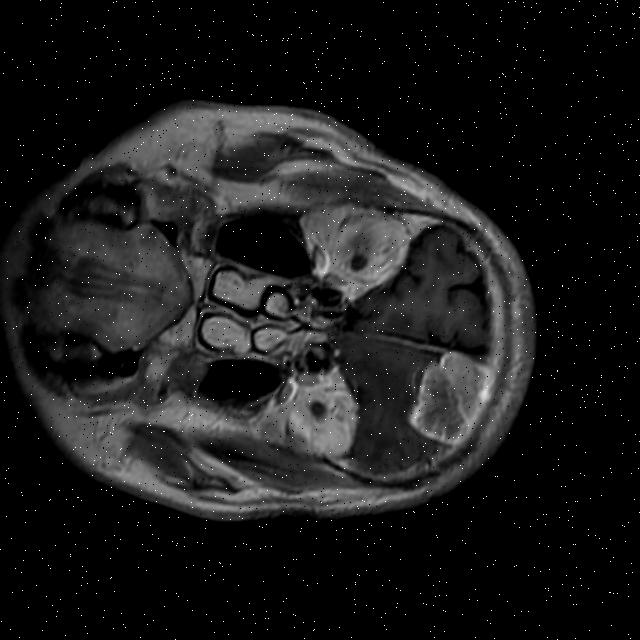Meningioma: (402, 344, 500, 450)
